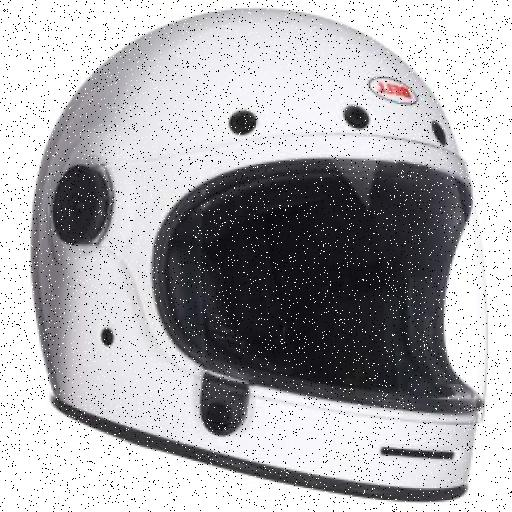Motor: (32, 0, 496, 501)
